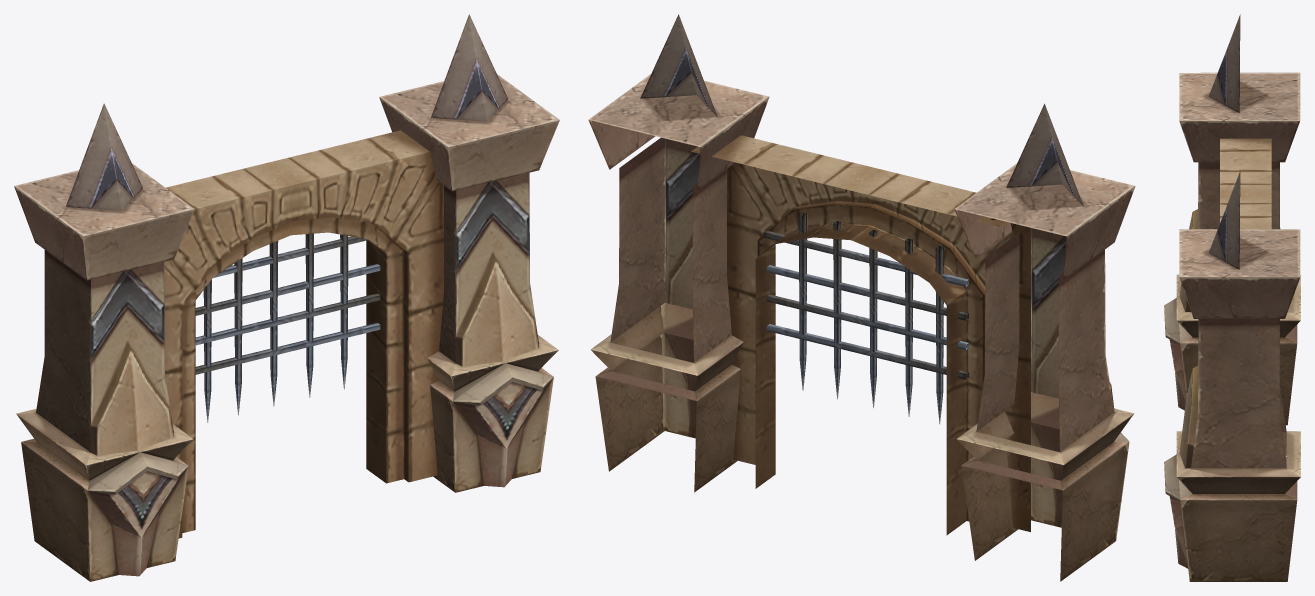
Rendered from Arena1_PVPdoor.FBX.
3 views of the same model, side by side, from view 1: azimuth 30°, elevation 25°; view 2: azimuth 150°, elevation 25°; view 3: azimuth 270°, elevation 25° (orthographic). The views are drawn at different scales.
Visible parts, largest first — view 1: Arena1_PVPdoor; view 2: Arena1_PVPdoor; view 3: Arena1_PVPdoor.
Part boxes in pixels (x1,y1,x2,y2): Arena1_PVPdoor: [14, 14, 559, 581]; Arena1_PVPdoor: [588, 14, 1135, 581]; Arena1_PVPdoor: [1164, 14, 1300, 581].
Bounding box in the file's own units: 597 × 535 × 169.
